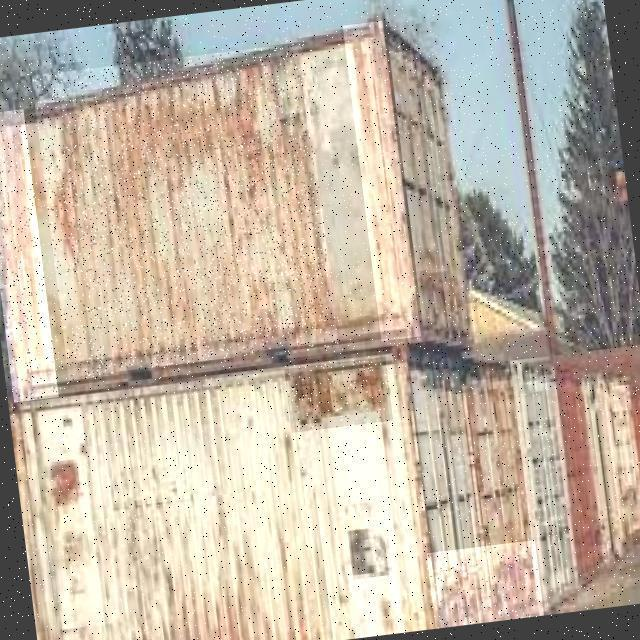rust: (32, 43, 339, 381), (344, 22, 422, 342), (1, 110, 59, 403), (428, 541, 545, 630), (285, 358, 394, 434)
